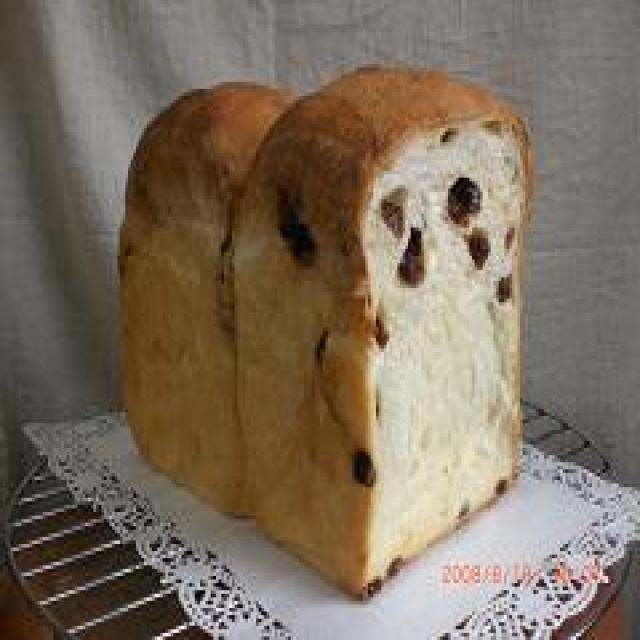面包点心: (75, 53, 568, 580)
